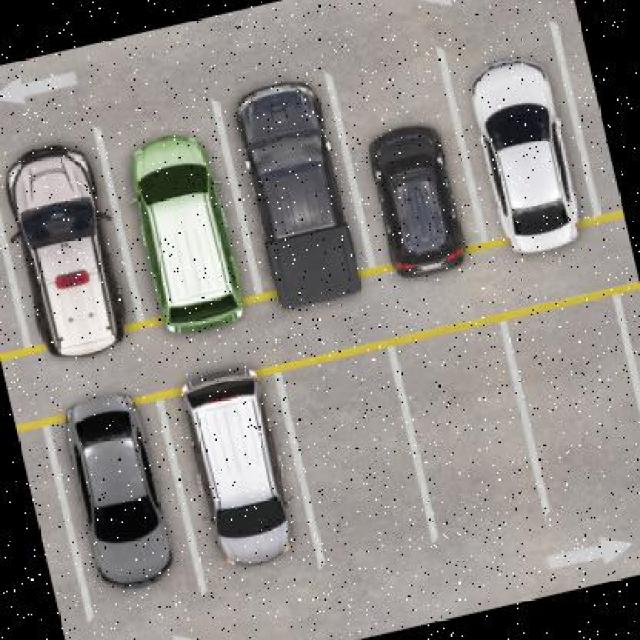Car: (229, 74, 376, 320), (167, 352, 304, 583), (1, 130, 136, 364), (462, 43, 595, 261), (127, 129, 253, 333), (62, 392, 178, 596), (367, 129, 472, 287)
Empty: (286, 347, 443, 587), (401, 327, 550, 553), (512, 298, 640, 536)
